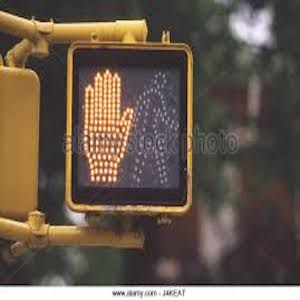red: (74, 67, 129, 178)
